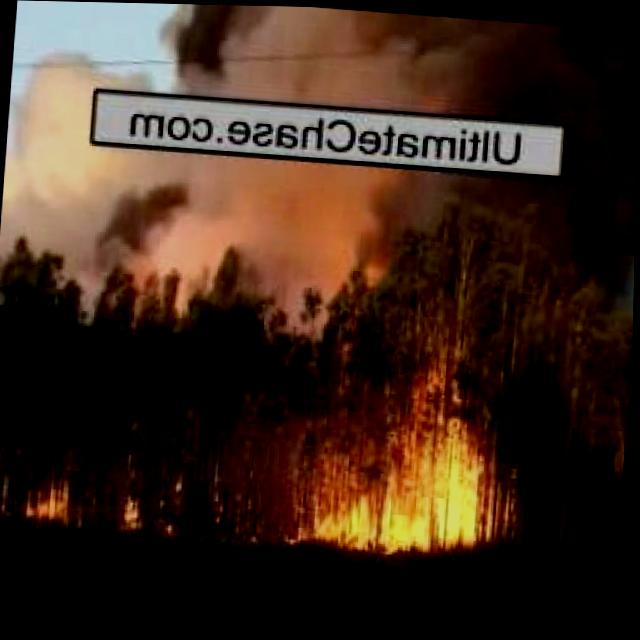helmet: (0, 131, 638, 349), (12, 0, 640, 121), (296, 401, 497, 555), (24, 478, 75, 526), (112, 494, 149, 528)
